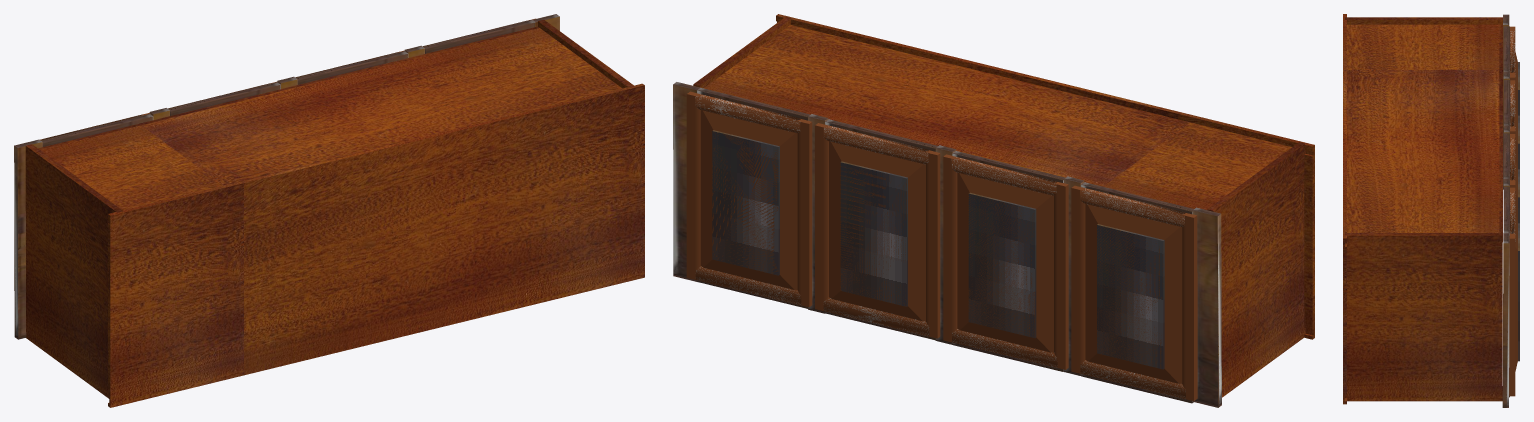
3 renders of one model, left to right at view 1: azimuth 30°, elevation 25°; view 2: azimuth 150°, elevation 25°; view 3: azimuth 270°, elevation 25°, orthographic. The views are drawn at different scales.
Visible parts, largest first — view 1: mesh13_mesh13-geometry, mesh3_mesh3-geometry, mesh1_mesh1-geometry, mesh7_mesh7-geometry, mesh9_mesh9-geometry; view 2: mesh3_mesh3-geometry, mesh20_mesh20-geometry, mesh18_mesh18-geometry, mesh1_mesh1-geometry, mesh26_mesh26-geometry, mesh22_mesh22-geometry, mesh24_mesh24-geometry, mesh9_mesh9-geometry, mesh13_mesh13-geometry, mesh7_mesh7-geometry, mesh5_mesh5-geometry; view 3: mesh3_mesh3-geometry, mesh1_mesh1-geometry, mesh13_mesh13-geometry, mesh9_mesh9-geometry, mesh7_mesh7-geometry, mesh24_mesh24-geometry, mesh26_mesh26-geometry, mesh18_mesh18-geometry, mesh20_mesh20-geometry, mesh5_mesh5-geometry.
Boxes of the visible parts, x1=… form: mesh13_mesh13-geometry: x1=108, y1=83, x2=644, y2=407; mesh3_mesh3-geometry: x1=38, y1=26, x2=621, y2=210; mesh1_mesh1-geometry: x1=25, y1=20, x2=634, y2=398; mesh7_mesh7-geometry: x1=41, y1=19, x2=535, y2=146; mesh9_mesh9-geometry: x1=14, y1=14, x2=559, y2=339; mesh3_mesh3-geometry: x1=704, y1=25, x2=1291, y2=209; mesh20_mesh20-geometry: x1=712, y1=130, x2=1164, y2=369; mesh18_mesh18-geometry: x1=700, y1=109, x2=1182, y2=388; mesh1_mesh1-geometry: x1=693, y1=17, x2=1305, y2=397; mesh26_mesh26-geometry: x1=695, y1=94, x2=1185, y2=399; mesh22_mesh22-geometry: x1=797, y1=119, x2=1197, y2=401; mesh24_mesh24-geometry: x1=686, y1=91, x2=1086, y2=373; mesh9_mesh9-geometry: x1=673, y1=82, x2=1221, y2=407; mesh13_mesh13-geometry: x1=776, y1=14, x2=1314, y2=339; mesh7_mesh7-geometry: x1=697, y1=87, x2=1193, y2=403; mesh5_mesh5-geometry: x1=808, y1=114, x2=1084, y2=375; mesh3_mesh3-geometry: x1=1347, y1=24, x2=1502, y2=241; mesh1_mesh1-geometry: x1=1345, y1=17, x2=1502, y2=401; mesh13_mesh13-geometry: x1=1343, y1=14, x2=1346, y2=404; mesh9_mesh9-geometry: x1=1502, y1=14, x2=1509, y2=407; mesh7_mesh7-geometry: x1=1503, y1=26, x2=1510, y2=397; mesh24_mesh24-geometry: x1=1509, y1=72, x2=1515, y2=396; mesh26_mesh26-geometry: x1=1510, y1=31, x2=1515, y2=242; mesh18_mesh18-geometry: x1=1515, y1=52, x2=1517, y2=371; mesh20_mesh20-geometry: x1=1518, y1=62, x2=1519, y2=361; mesh5_mesh5-geometry: x1=1503, y1=71, x2=1509, y2=186.
Size of the model in its own units: 0.9042 by 0.3073 by 0.2965.
